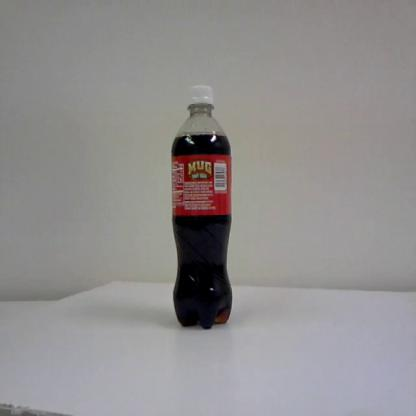bottle: (168, 81, 233, 332)
